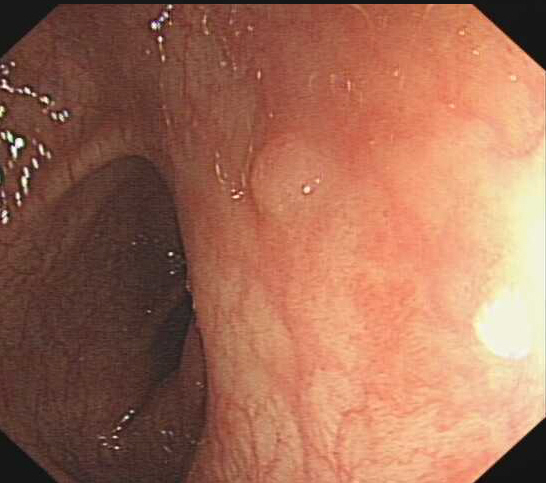adenoma: (247, 133, 319, 213)
